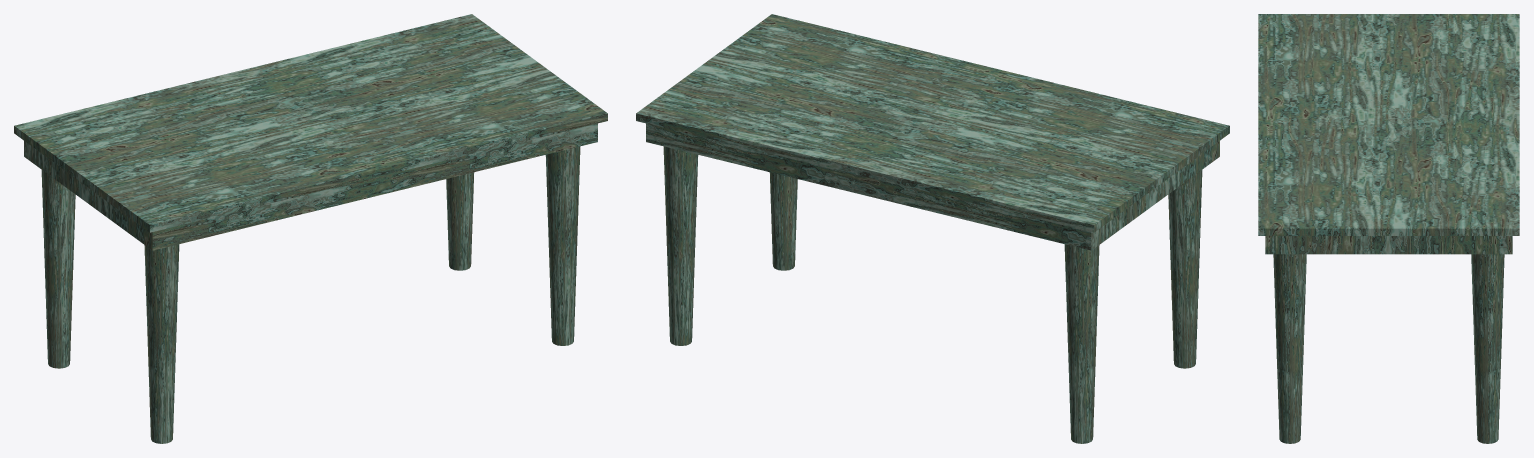
File: Table_MidShip.FBX
3 views of the same model, side by side, from view 1: azimuth 30°, elevation 25°; view 2: azimuth 150°, elevation 25°; view 3: azimuth 270°, elevation 25° (orthographic). The views are drawn at different scales.
Parts seen in each view (by area): view 1: Box030; view 2: Box030; view 3: Box030.
Part boxes in pixels (x1,y1,x2,y2): Box030: (14, 14, 607, 443); Box030: (636, 14, 1229, 443); Box030: (1258, 14, 1519, 443).
Size of the model in its own units: 206 by 100 by 106.
